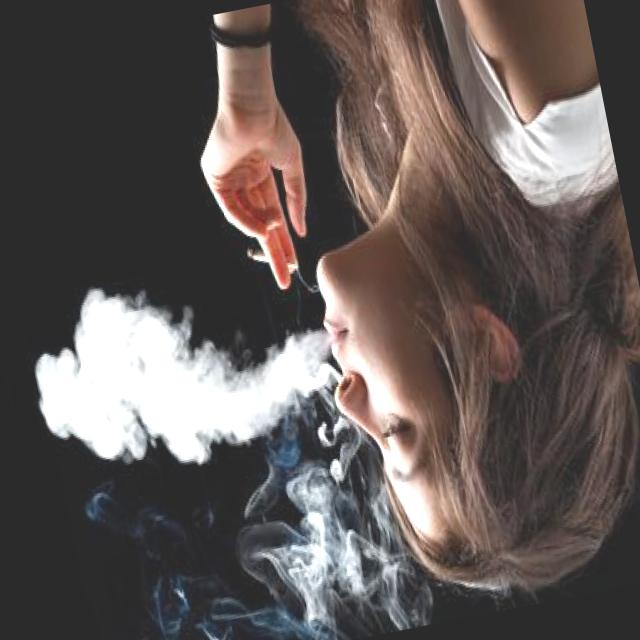cigarette: (227, 232, 303, 287)
